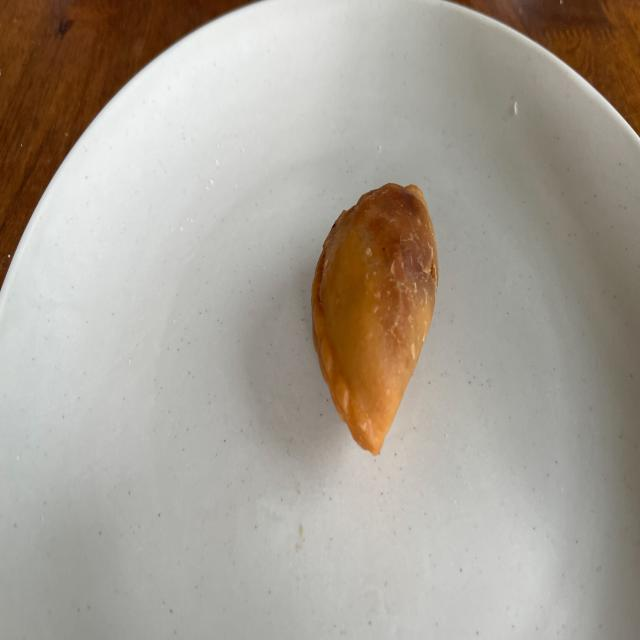karipap: (311, 184, 439, 456)
